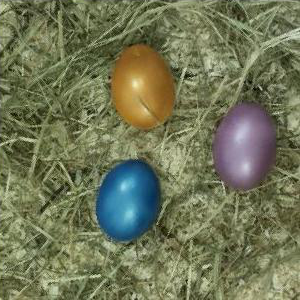egg: (213, 103, 278, 189), (112, 44, 175, 131), (95, 161, 160, 242)
